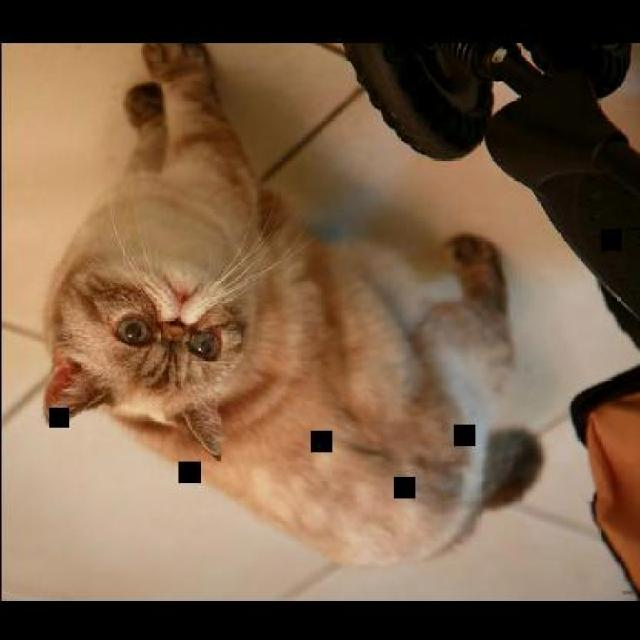unauthorized: (42, 41, 544, 568)
